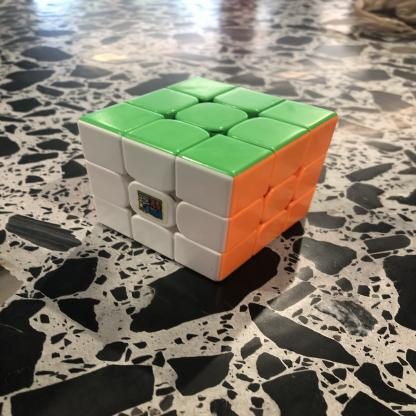SolvedCube: (66, 65, 340, 289)
